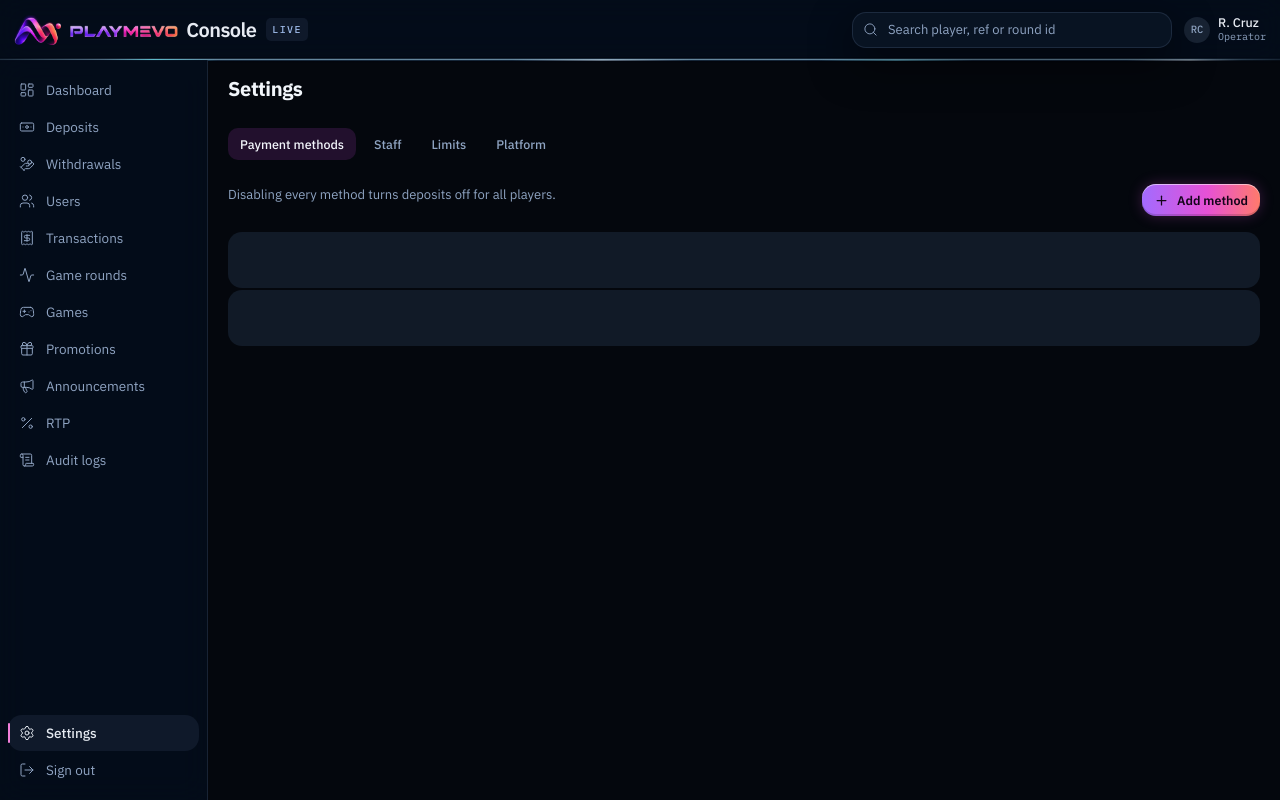
Scenario: admin settings › lists administrators and turns one administrator's email alerts on
The image size is (1280, 800).
Click the tab "Staff" at (388, 144), box [362,128,413,160]
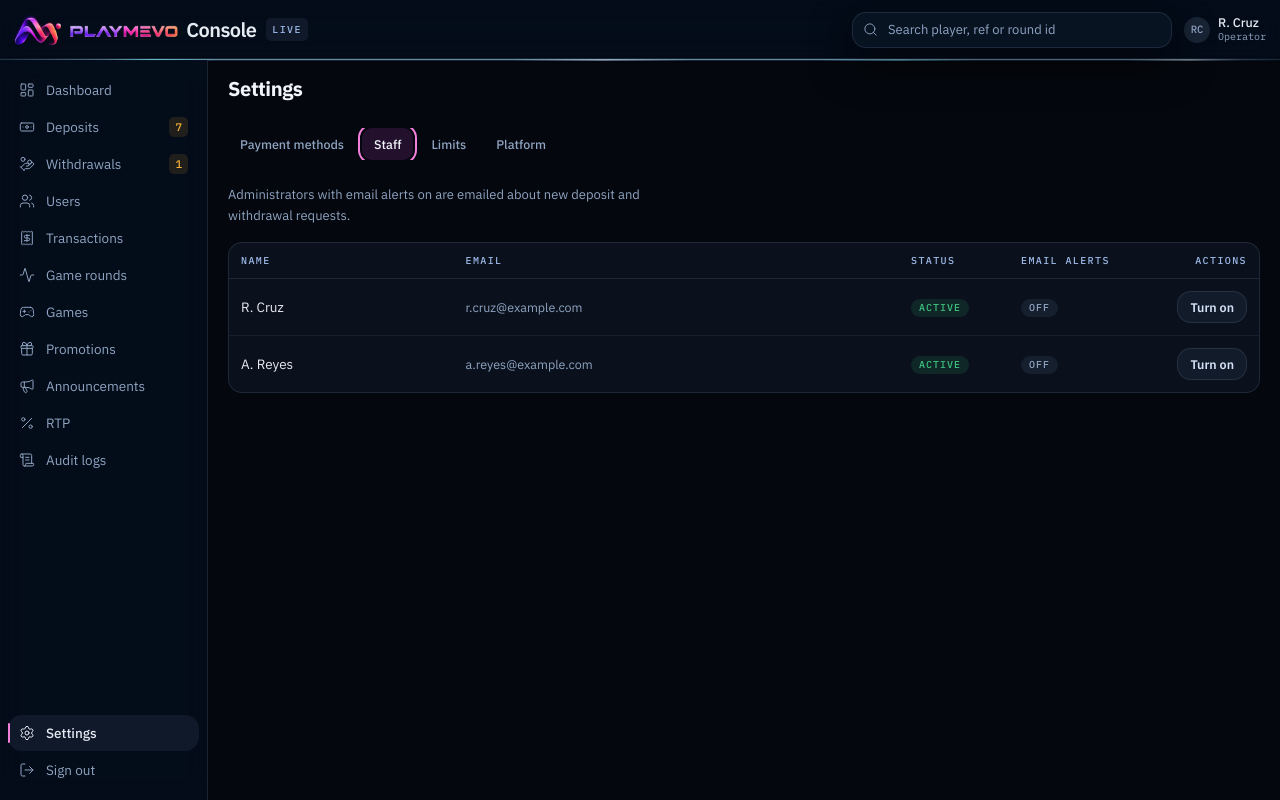
Now the text "Off" in the row of "r.cruz@example.com" is shown, box [1029,301,1050,314]
Now the text "Off" in the row of "A. Reyes" is shown, box [1029,358,1050,371]
Click the button "Turn on" in the row of "A. Reyes" at (1212, 364), box [1177,348,1247,380]
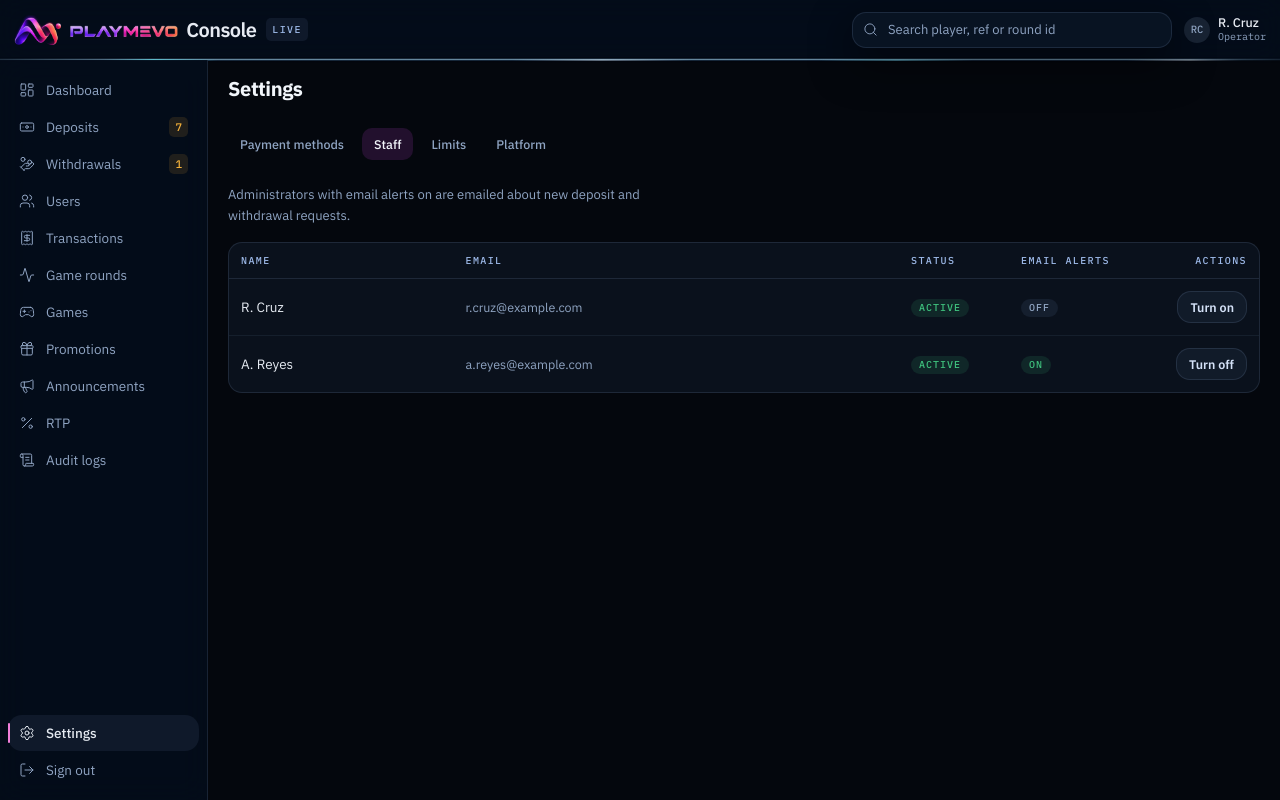
Now the text "On" is shown, box [1021,356,1051,374]
Now the text "Off" is shown, box [1021,299,1058,317]
Now the button "Turn off" is shown, box [1176,348,1247,380]
